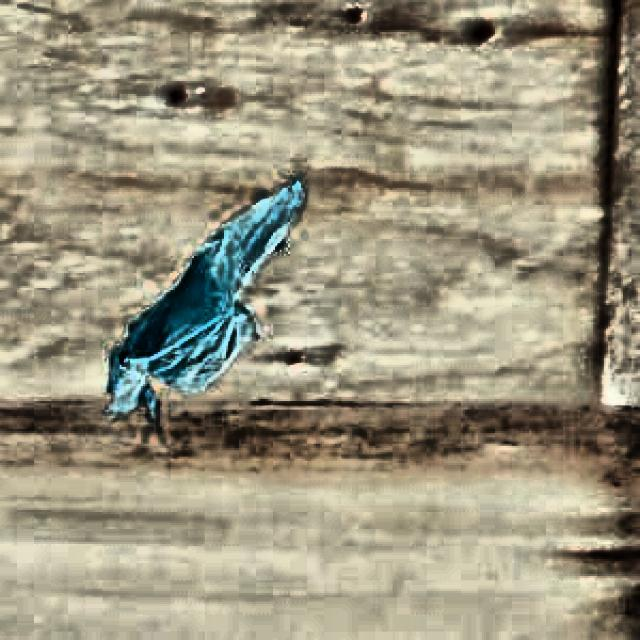Plastic: (81, 165, 316, 429)
